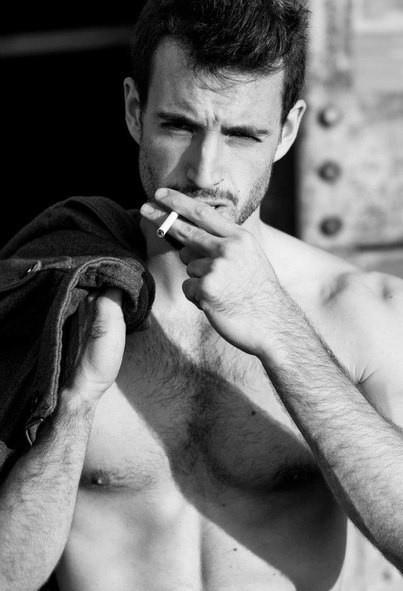cigarette: (156, 210, 179, 238)
